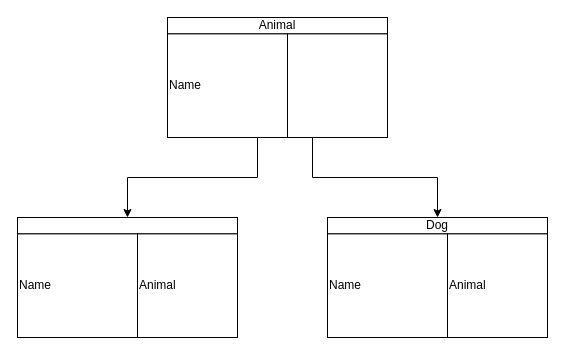
Some shapes in this 565 by 355 pixel diagram are drawn without their labels. Here are the shapes that lost their labels. From the top down, the box of each, then its label:
(286, 33, 388, 138): Dog Cat
(16, 216, 238, 234): Cat
